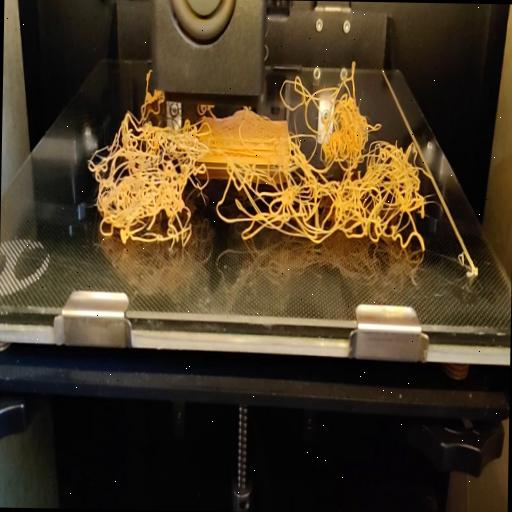spaghetti: (88, 96, 432, 264), (280, 56, 364, 106), (144, 66, 150, 93)
